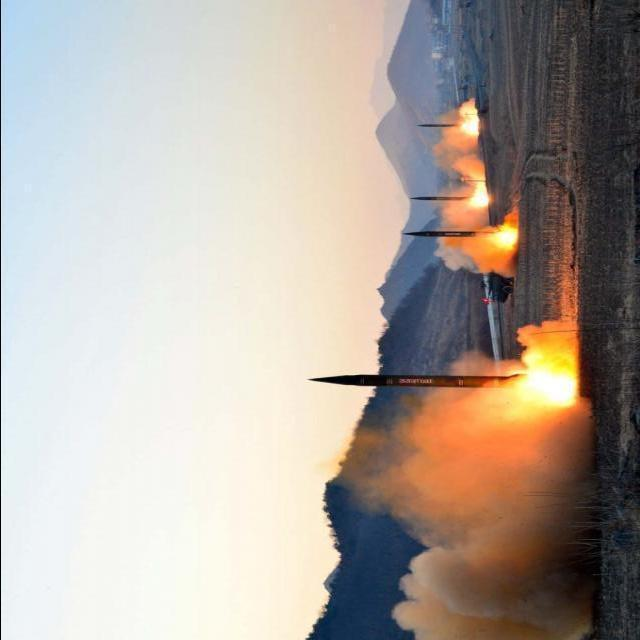missile: (308, 367, 532, 395)
